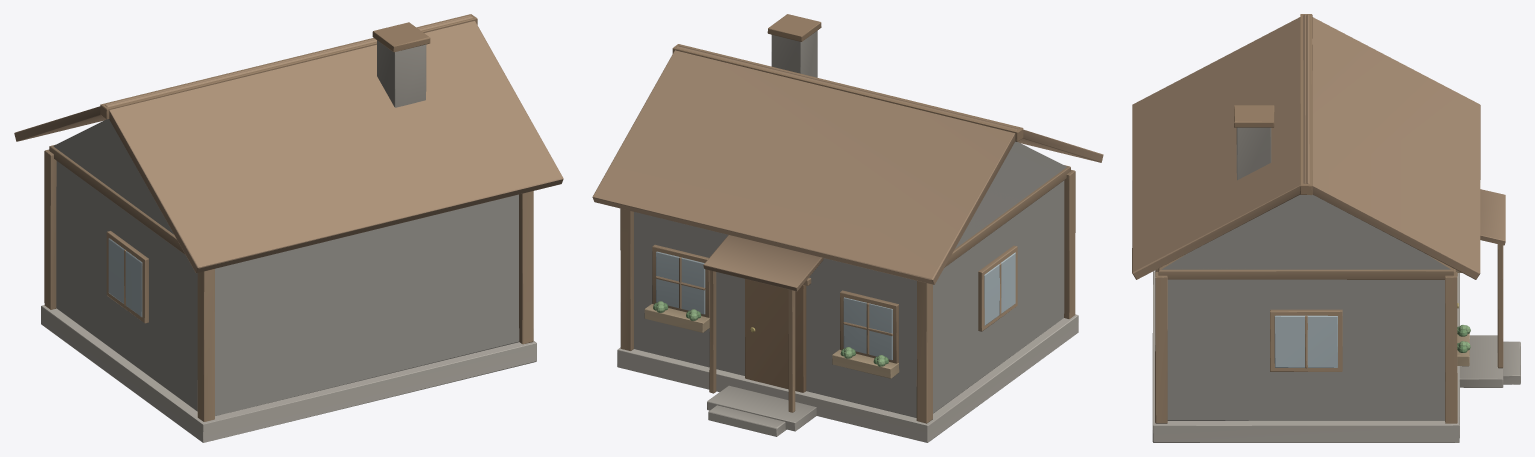
Rendered from home_house__brown_low.glb.
The picture shows the model from 3 angles, left to right: view 1: azimuth 30°, elevation 25°; view 2: azimuth 150°, elevation 25°; view 3: azimuth 270°, elevation 25°; orthographic projection. The views are drawn at different scales.
Size of the model in its own units: 7 by 5.59 by 6.7.
